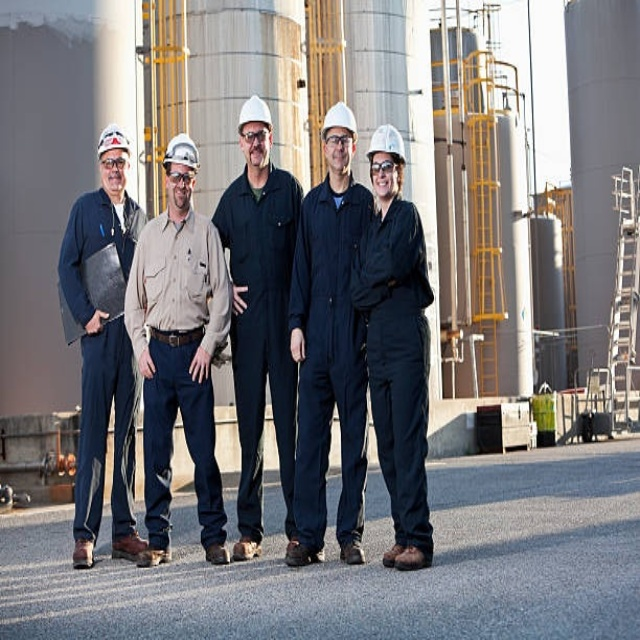Gafas: (166, 171, 197, 187), (369, 157, 397, 174), (321, 133, 352, 147), (100, 155, 127, 169), (242, 130, 269, 143)
Sin_guantes: (188, 346, 213, 383), (289, 323, 310, 364), (85, 307, 111, 339), (231, 281, 250, 322), (138, 344, 155, 380)
Sin_mascara: (105, 169, 124, 193), (328, 151, 346, 169), (375, 177, 390, 196), (247, 146, 261, 165), (172, 187, 185, 204)
